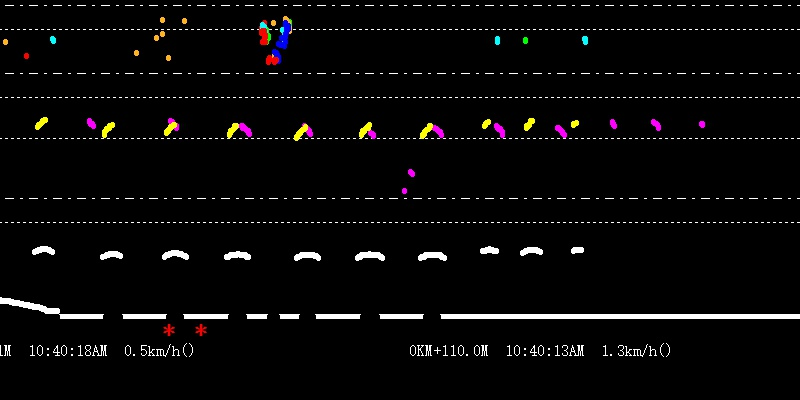J: (257, 2, 291, 65)
face_down: (580, 21, 591, 45), (492, 22, 502, 45)
star: (160, 323, 180, 339), (192, 322, 207, 340)
